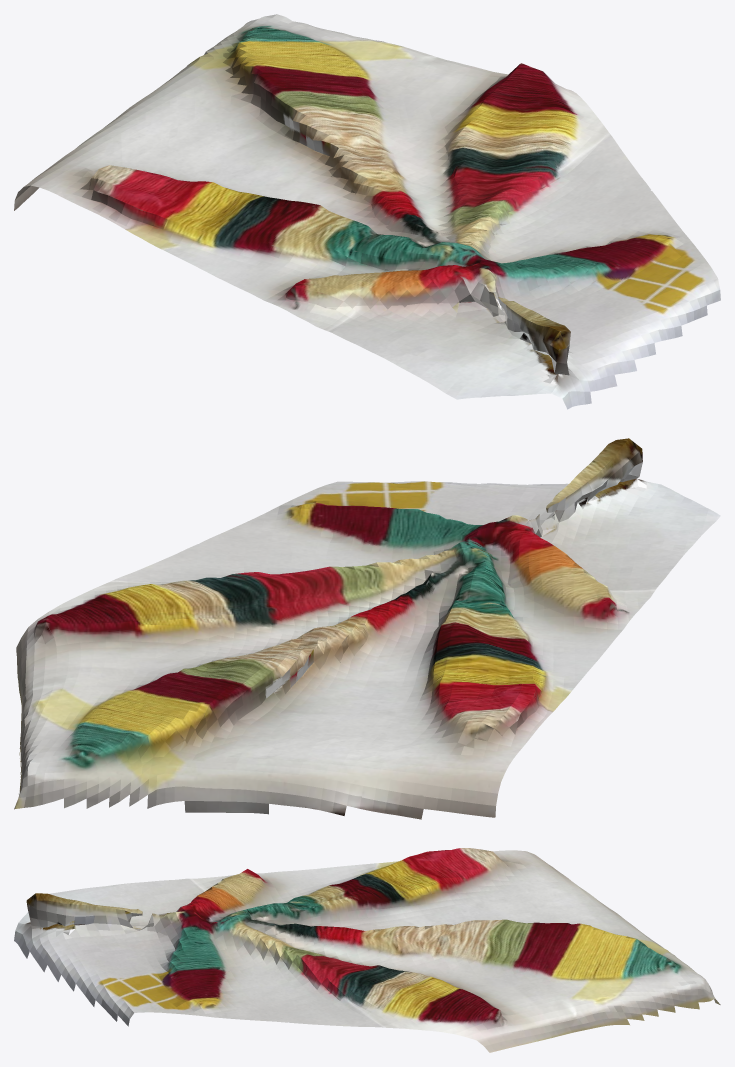
The model's file is Weed_cosi_Lowpoly.obj.
The picture shows the model from 3 angles, top to bottom: view 1: azimuth 30°, elevation 25°; view 2: azimuth 150°, elevation 25°; view 3: azimuth 270°, elevation 25°; orthographic projection. The views are drawn at different scales.
Parts seen in each view (by area): view 1: Weed_cosi_Lowpoly_model.074; view 2: Weed_cosi_Lowpoly_model.074; view 3: Weed_cosi_Lowpoly_model.074.
Part boxes in pixels (x1,y1,x2,y2): Weed_cosi_Lowpoly_model.074: [14, 14, 720, 409]; Weed_cosi_Lowpoly_model.074: [14, 438, 720, 819]; Weed_cosi_Lowpoly_model.074: [14, 848, 720, 1052].
Size of the model in its own units: 2.35 by 0.351 by 3.72.
1 material, 1 textured.
